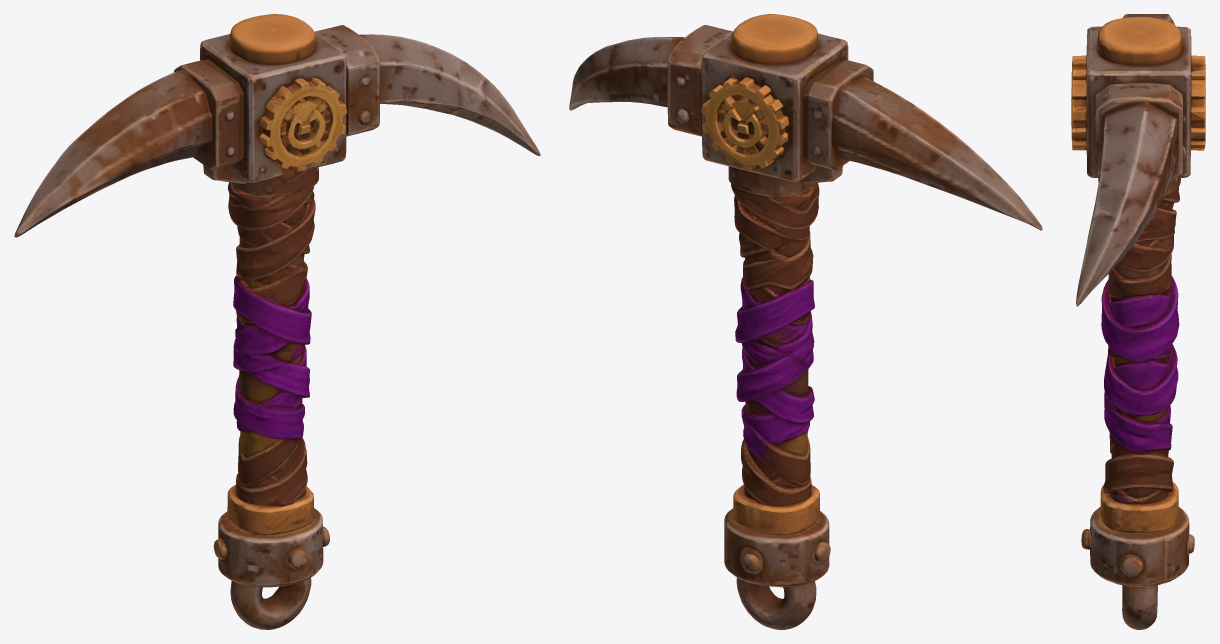
The model's file is pickaxe.glb.
3 renders of one model, left to right at view 1: azimuth 30°, elevation 25°; view 2: azimuth 150°, elevation 25°; view 3: azimuth 270°, elevation 25°, orthographic.
Visible parts, largest first — view 1: Mesh_0; view 2: Mesh_0; view 3: Mesh_0.
Part boxes in pixels (bbox=[...]): Mesh_0: bbox=[14, 14, 540, 629]; Mesh_0: bbox=[569, 14, 1042, 629]; Mesh_0: bbox=[1071, 14, 1205, 629].
Bounding box in the file's own units: 1.66 × 1.9 × 0.39.
1 material, 1 textured.
